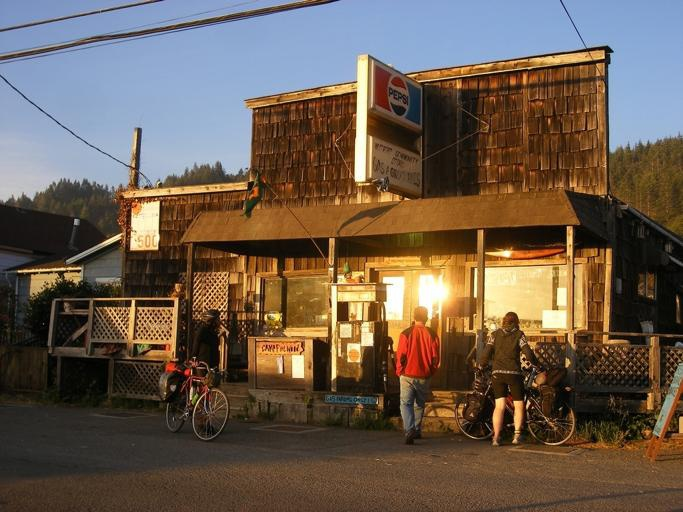non-vehicle: (454, 359, 575, 446), (164, 355, 230, 442)
